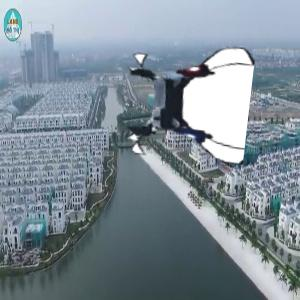drone: (121, 40, 251, 170)
